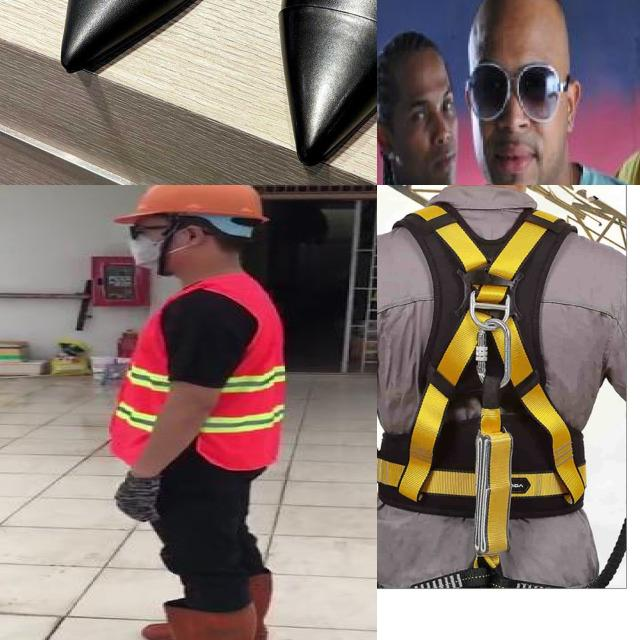Harness: (377, 199, 589, 525)
Sandals: (19, 0, 289, 113), (232, 0, 377, 179)
boots: (105, 605, 263, 640)
face_mask: (114, 220, 202, 272)
face_nomask: (473, 63, 554, 174), (403, 92, 463, 182)
glasses: (461, 57, 566, 123)
hand_glove: (109, 474, 169, 521)
head_helmet: (108, 185, 270, 224)
head_nohelmet: (377, 26, 453, 77), (472, 0, 566, 37)
person: (70, 185, 296, 640), (406, 0, 640, 185), (377, 24, 468, 185)
vest: (91, 275, 289, 470)
